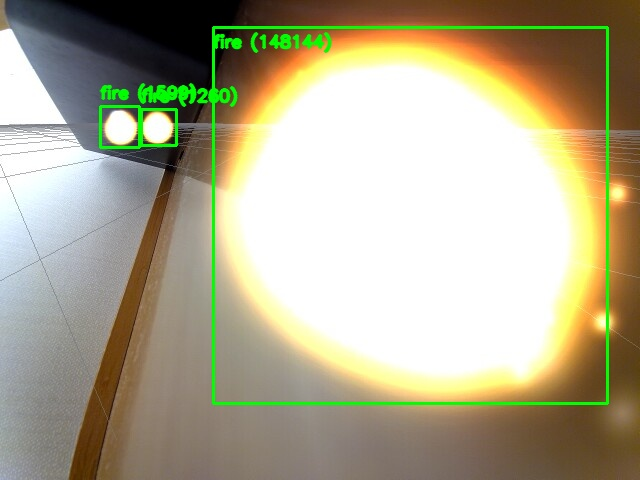fire: (213, 27, 607, 403), (100, 106, 139, 147), (141, 109, 176, 145)
